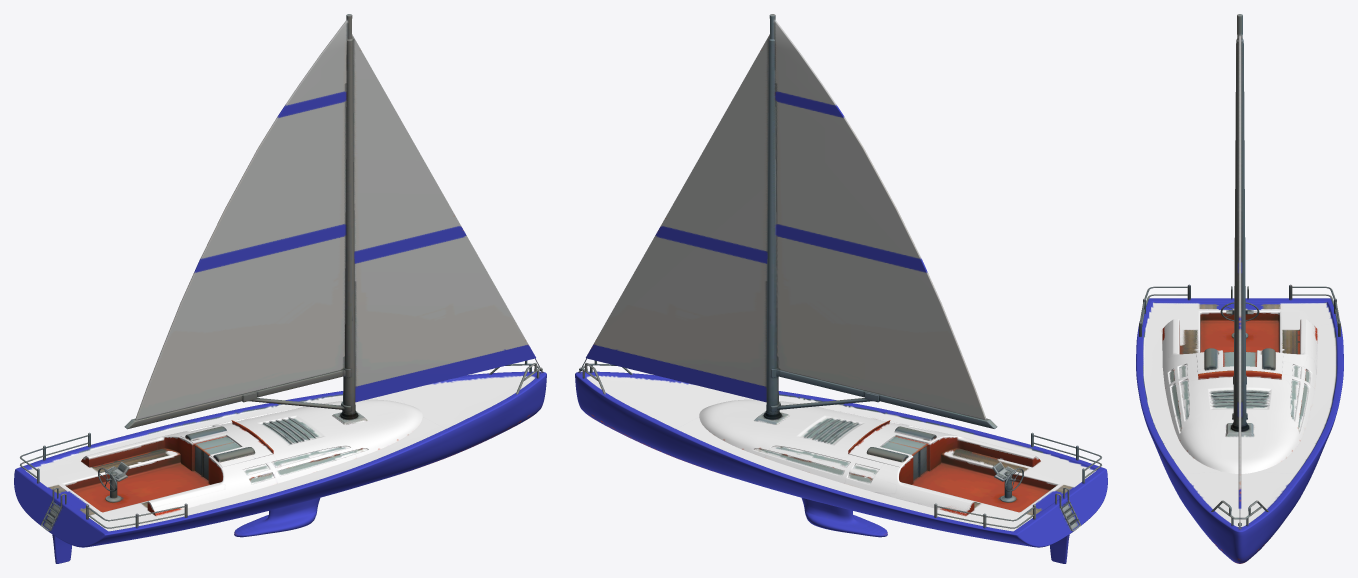
File: boat.gltf
3 views of the same model, side by side, from view 1: azimuth 30°, elevation 25°; view 2: azimuth 150°, elevation 25°; view 3: azimuth 270°, elevation 25° (orthographic). The views are drawn at different scales.
Visible parts, largest first — view 1: root_Material_77_0; view 2: root_Material_77_0; view 3: root_Material_77_0.
Boxes of the visible parts, x1,y1,x2,y2 form: root_Material_77_0: [14, 14, 546, 563]; root_Material_77_0: [575, 14, 1107, 563]; root_Material_77_0: [1136, 14, 1343, 563].
Size of the model in its own units: 0.3092 by 0.2918 by 0.1078.
1 material, 1 textured.
